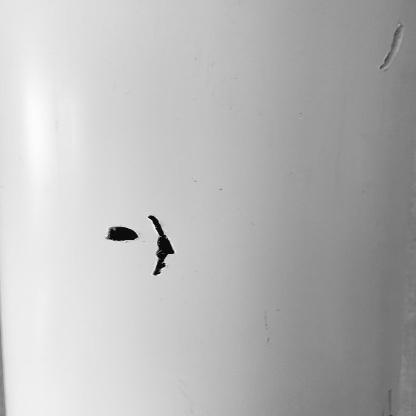kongdong: (148, 208, 176, 284), (100, 219, 141, 248)
sunshang: (374, 23, 406, 71)
